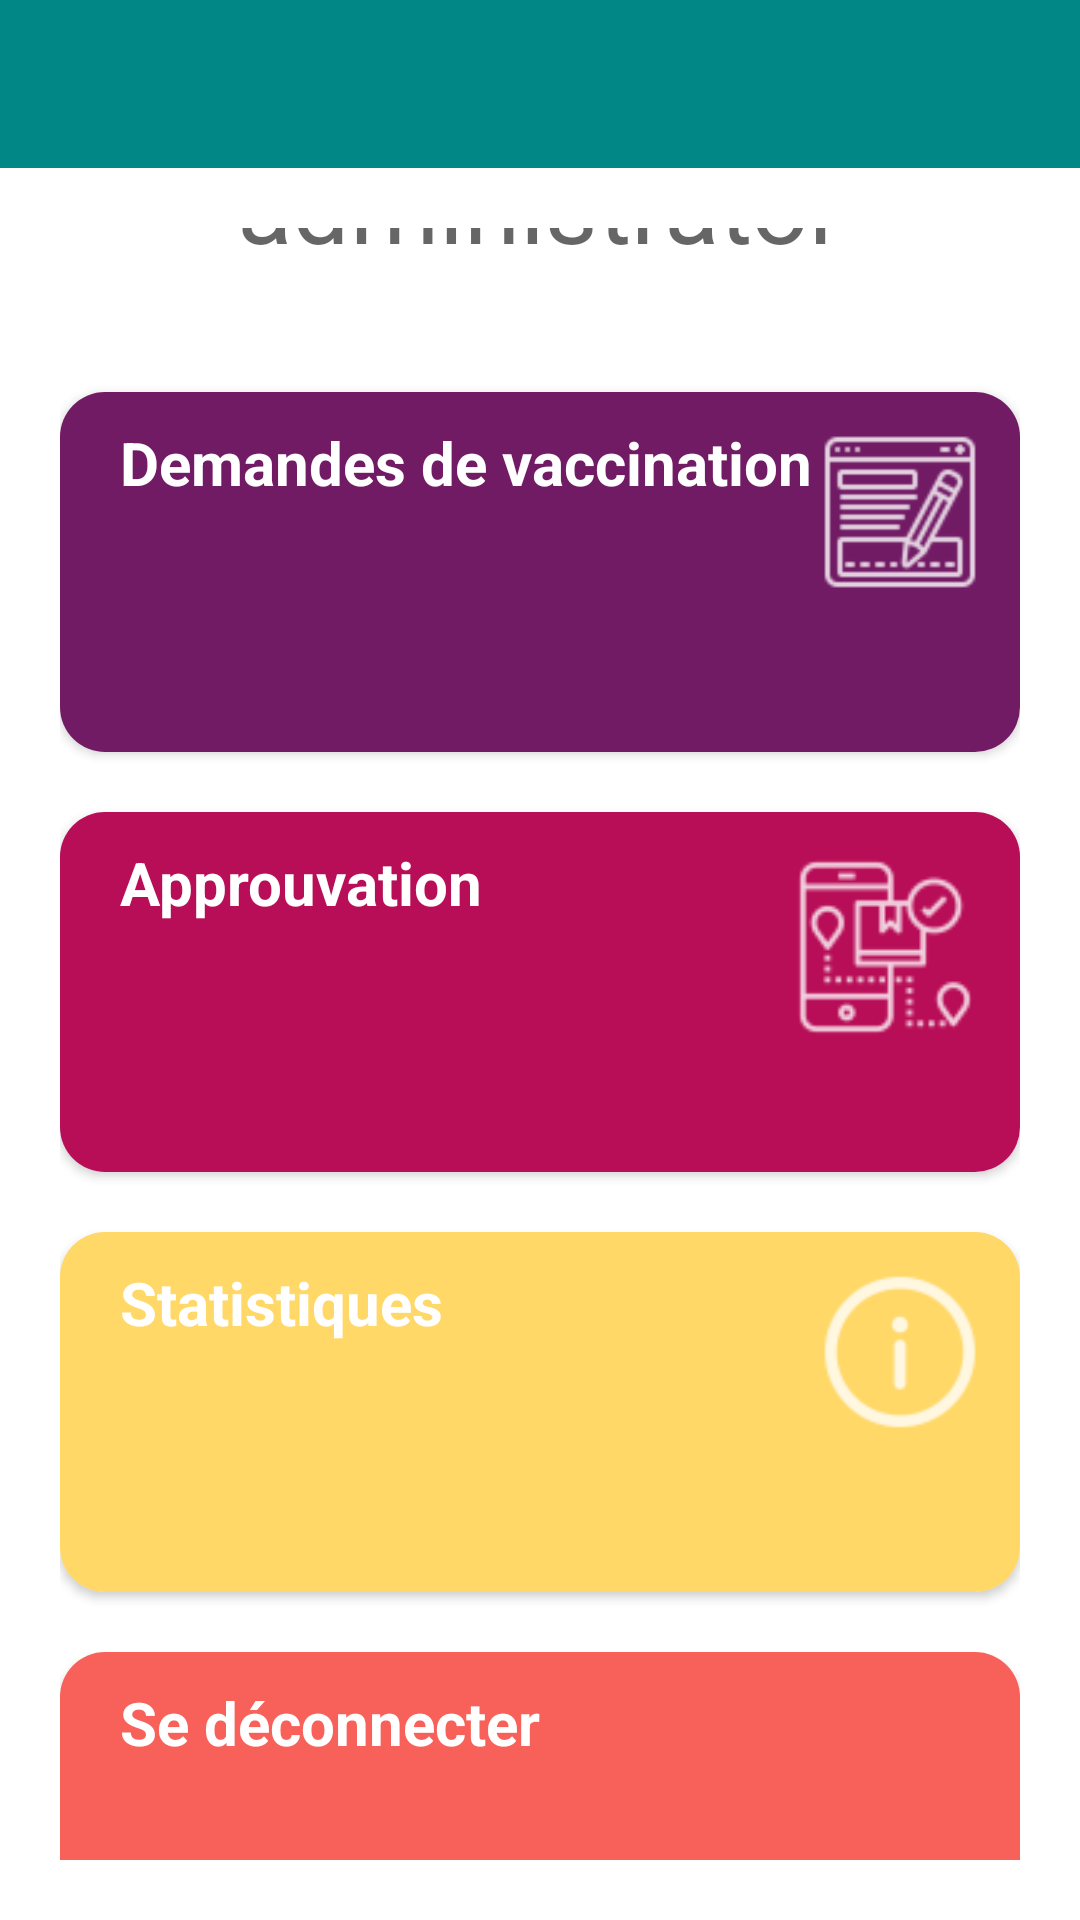

Screen size 1080 x 1920. Icon name, then its center in pixels as (x=x, y=y):
infos: (x=900, y=1352)
track: (x=885, y=947)
